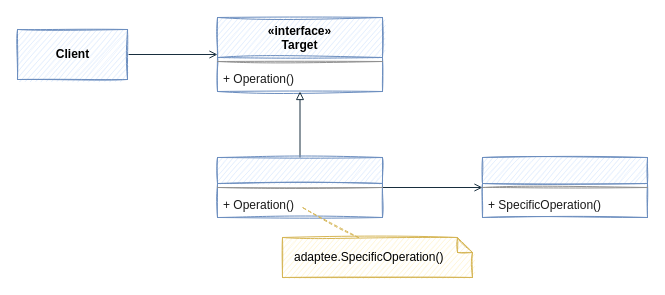
The diagram is 665 pixels wide and 295 high, and some of its shapes have lost their labels. The shapes that lost their labels are listed below. From the top down, each one's box as (x1, y1, x2, y2) in pixels, then its label:
(216, 156, 382, 218): Adapter
(482, 156, 648, 218): Adaptee
